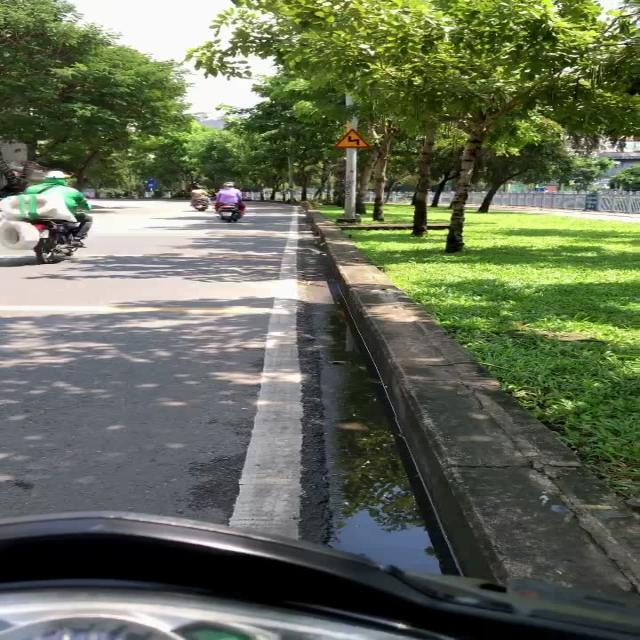Bien bao nhieu cho ngoat nguy hiem lien tiep: (325, 128, 375, 149)
